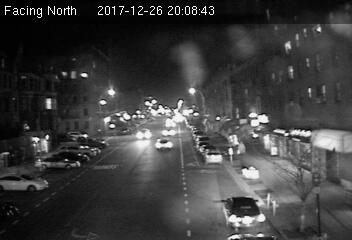car: (219, 194, 267, 229), (203, 148, 221, 163), (154, 137, 173, 149), (136, 129, 151, 139), (160, 128, 177, 136)
